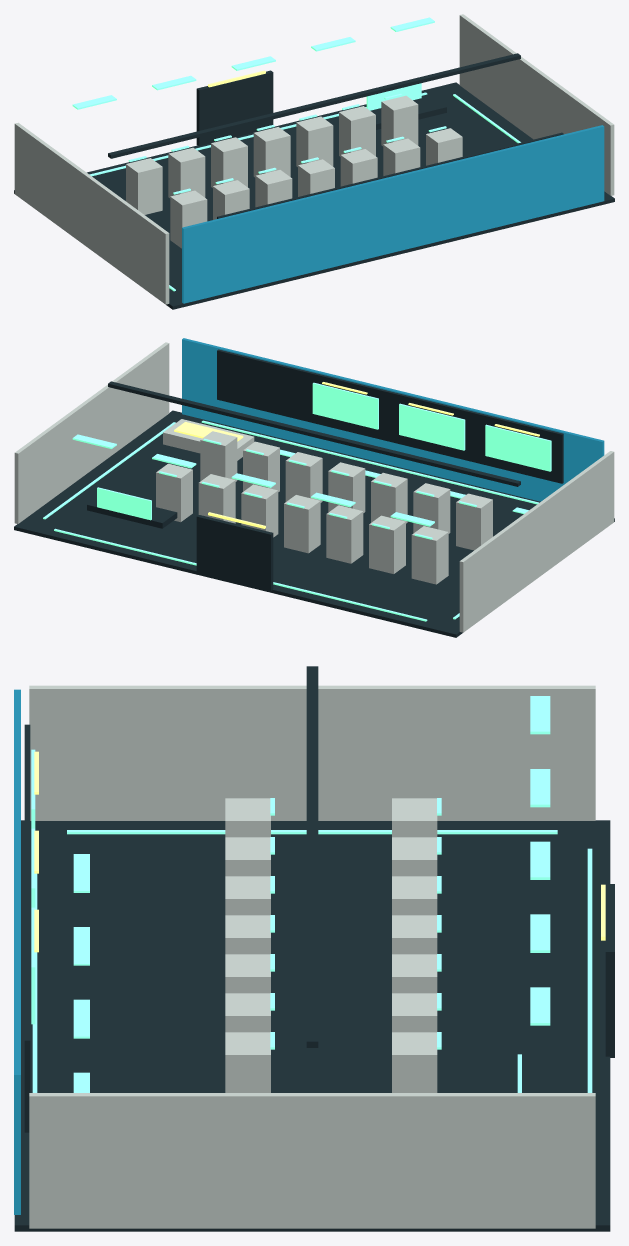
File: storage-room.glb
3 views of the same model, one above another, from view 1: azimuth 30°, elevation 25°; view 2: azimuth 150°, elevation 25°; view 3: azimuth 270°, elevation 25° (orthographic). The views are drawn at different scales.
Parts seen in each view (by area): view 1: rj-storage-room-interior-rear-glass-wall, rj-storage-room-interior-left-wall-frame, rj-storage-room-interior-raised-interior-floor, rj-storage-room-interior-right-wall-frame, rj-storage-room-interior-exit-door-frame, rj-storage-room-interior-ceiling-spine, rj-storage-room-interior-battery-rack-1-1, rj-storage-room-interior-battery-rack-1-2, rj-storage-room-interior-battery-rack-1-7, rj-storage-room-interior-battery-rack-1-4, rj-storage-room-interior-battery-rack-1-5, rj-storage-room-interior-battery-rack-1-3 (+11 smaller); view 2: rj-storage-room-interior-raised-interior-floor, rj-storage-room-interior-left-wall-frame, rj-storage-room-interior-screen-wall-backplane, rj-storage-room-interior-rear-glass-wall, rj-storage-room-interior-right-wall-frame, rj-storage-room-interior-exit-door-frame, rj-storage-room-interior-ceiling-spine, rj-storage-room-interior-main-display-3, rj-storage-room-interior-main-display-1, rj-storage-room-interior-main-display-2, rj-storage-room-interior-battery-rack-1-3, rj-storage-room-interior-battery-rack-1-1 (+19 smaller); view 3: rj-storage-room-interior-raised-interior-floor, rj-storage-room-interior-right-wall-frame, rj-storage-room-interior-left-wall-frame, rj-storage-room-interior-ceiling-spine, rj-storage-room-interior-rear-glass-wall, rj-storage-room-interior-screen-wall-backplane, rj-storage-room-interior-battery-rack-2-7, rj-storage-room-interior-battery-rack-1-7, rj-storage-room-interior-left-wayfinding-rail, rj-storage-room-interior-battery-rack-2-1, rj-storage-room-interior-battery-rack-2-2, rj-storage-room-interior-battery-rack-2-3 (+16 smaller).
Part boxes in pixels (bbox=[...]): rj-storage-room-interior-rear-glass-wall: bbox=[182, 125, 604, 303]; rj-storage-room-interior-left-wall-frame: bbox=[14, 122, 169, 304]; rj-storage-room-interior-raised-interior-floor: bbox=[14, 82, 614, 309]; rj-storage-room-interior-right-wall-frame: bbox=[459, 14, 614, 195]; rj-storage-room-interior-exit-door-frame: bbox=[196, 70, 273, 146]; rj-storage-room-interior-ceiling-spine: bbox=[108, 53, 520, 158]; rj-storage-room-interior-battery-rack-1-1: bbox=[126, 158, 162, 214]; rj-storage-room-interior-battery-rack-1-2: bbox=[168, 147, 205, 198]; rj-storage-room-interior-battery-rack-1-7: bbox=[381, 95, 418, 146]; rj-storage-room-interior-battery-rack-1-4: bbox=[253, 127, 290, 177]; rj-storage-room-interior-battery-rack-1-5: bbox=[296, 116, 333, 166]; rj-storage-room-interior-battery-rack-1-3: bbox=[211, 137, 247, 187]; rj-storage-room-interior-raised-interior-floor: bbox=[14, 410, 614, 637]; rj-storage-room-interior-left-wall-frame: bbox=[459, 451, 614, 632]; rj-storage-room-interior-screen-wall-backplane: bbox=[217, 349, 563, 483]; rj-storage-room-interior-rear-glass-wall: bbox=[182, 338, 604, 501]; rj-storage-room-interior-right-wall-frame: bbox=[14, 342, 169, 523]; rj-storage-room-interior-exit-door-frame: bbox=[196, 515, 273, 590]; rj-storage-room-interior-ceiling-spine: bbox=[108, 381, 520, 486]; rj-storage-room-interior-main-display-3: bbox=[312, 382, 378, 429]; rj-storage-room-interior-main-display-1: bbox=[485, 424, 551, 471]; rj-storage-room-interior-main-display-2: bbox=[399, 403, 465, 450]; rj-storage-room-interior-battery-rack-1-3: bbox=[326, 505, 363, 563]; rj-storage-room-interior-battery-rack-1-1: bbox=[411, 526, 448, 584]; rj-storage-room-interior-raised-interior-floor: bbox=[14, 820, 610, 1231]; rj-storage-room-interior-right-wall-frame: bbox=[29, 1093, 595, 1228]; rj-storage-room-interior-left-wall-frame: bbox=[29, 685, 595, 820]; rj-storage-room-interior-ceiling-spine: bbox=[306, 666, 318, 1047]; rj-storage-room-interior-rear-glass-wall: bbox=[14, 689, 20, 1214]; rj-storage-room-interior-screen-wall-backplane: bbox=[24, 724, 30, 1132]; rj-storage-room-interior-battery-rack-2-7: bbox=[225, 1032, 270, 1092]; rj-storage-room-interior-battery-rack-1-7: bbox=[392, 1032, 437, 1092]; rj-storage-room-interior-left-wayfinding-rail: bbox=[67, 830, 557, 834]; rj-storage-room-interior-battery-rack-2-1: bbox=[225, 798, 270, 837]; rj-storage-room-interior-battery-rack-2-2: bbox=[225, 837, 270, 876]; rj-storage-room-interior-battery-rack-2-3: bbox=[225, 876, 270, 915].
Size of the model in its own units: 16.64 by 3.31 by 10.29.
